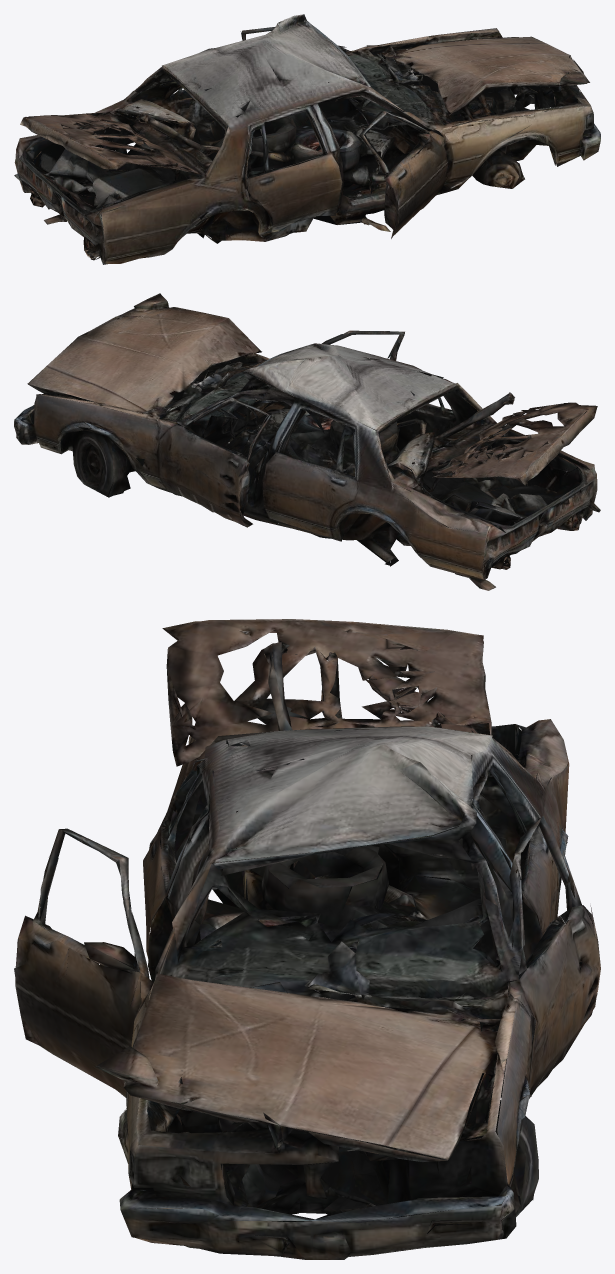
File: car_destroyed_car_03.glb
3 renders of one model, top to bottom at view 1: azimuth 30°, elevation 25°; view 2: azimuth 150°, elevation 25°; view 3: azimuth 270°, elevation 25°, orthographic. The views are drawn at different scales.
Visible parts, largest first — view 1: Box001; view 2: Box001; view 3: Box001.
Part boxes in pixels (x1,y1,x2,y2): Box001: (14, 14, 600, 264); Box001: (14, 293, 600, 590); Box001: (14, 619, 600, 1259).
Size of the model in its own units: 3.15 by 0.9592 by 1.65.
Materials: 1 (1 with a texture image).
